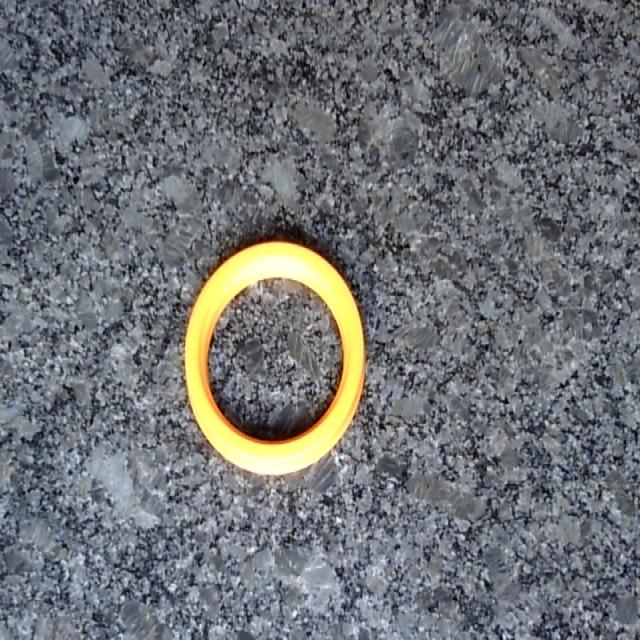orange-L-ring: (186, 242, 364, 475)
